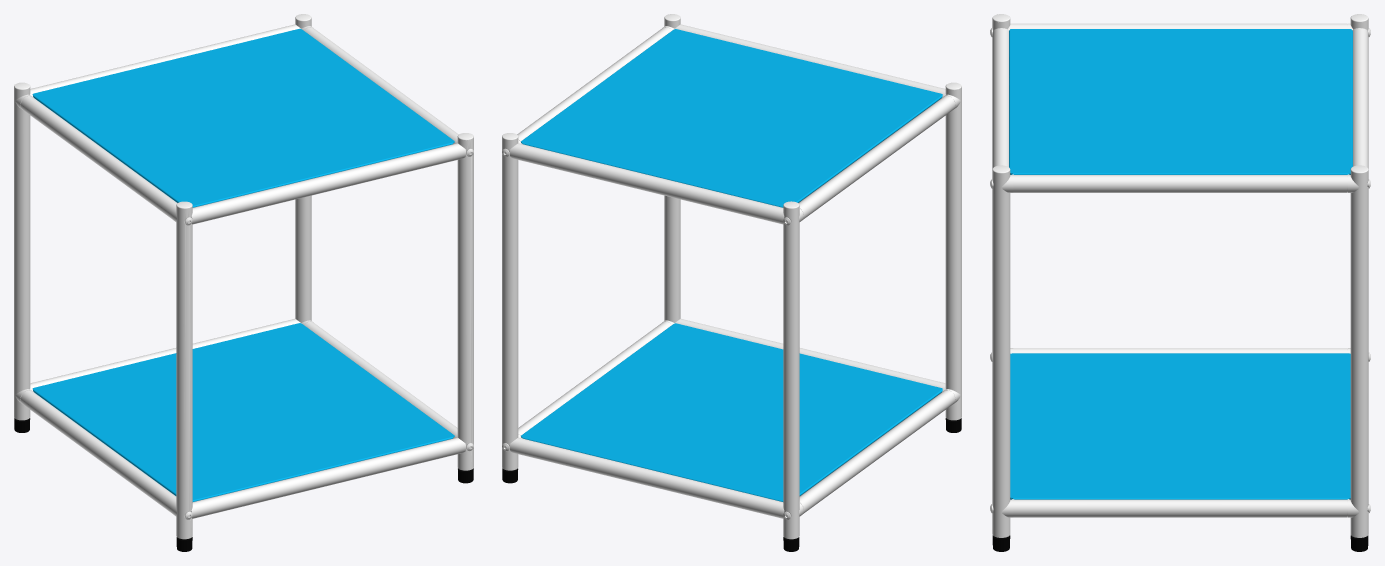
The model's file is 40x40x40-2-1-blue_optimized_optimized.glb.
The picture shows the model from 3 angles, left to right: view 1: azimuth 30°, elevation 25°; view 2: azimuth 150°, elevation 25°; view 3: azimuth 270°, elevation 25°; orthographic projection. The views are drawn at different scales.
Visible parts, largest first — view 1: 直角鐵板-40x40-5 - 零件, 反-鐵管-40-354..4-1 - 零件, 圓形腳+調整器-1 - 零件; view 2: 直角鐵板-40x40-5 - 零件, 反-鐵管-40-354..4-1 - 零件, 圓形腳+調整器-1 - 零件; view 3: 直角鐵板-40x40-5 - 零件, 反-鐵管-40-354..4-1 - 零件, 圓形腳+調整器-1 - 零件.
Part boxes in pixels (bbox=[...]): 直角鐵板-40x40-5 - 零件: bbox=[32, 28, 454, 501]; 反-鐵管-40-354..4-1 - 零件: bbox=[14, 14, 473, 539]; 圓形腳+調整器-1 - 零件: bbox=[14, 418, 473, 551]; 直角鐵板-40x40-5 - 零件: bbox=[521, 29, 942, 501]; 反-鐵管-40-354..4-1 - 零件: bbox=[502, 14, 961, 539]; 圓形腳+調整器-1 - 零件: bbox=[502, 418, 961, 551]; 直角鐵板-40x40-5 - 零件: bbox=[1009, 29, 1352, 499]; 反-鐵管-40-354..4-1 - 零件: bbox=[990, 14, 1370, 537]; 圓形腳+調整器-1 - 零件: bbox=[992, 535, 1368, 551].
Size of the model in its own units: 0.3992 by 0.4453 by 0.4035.
